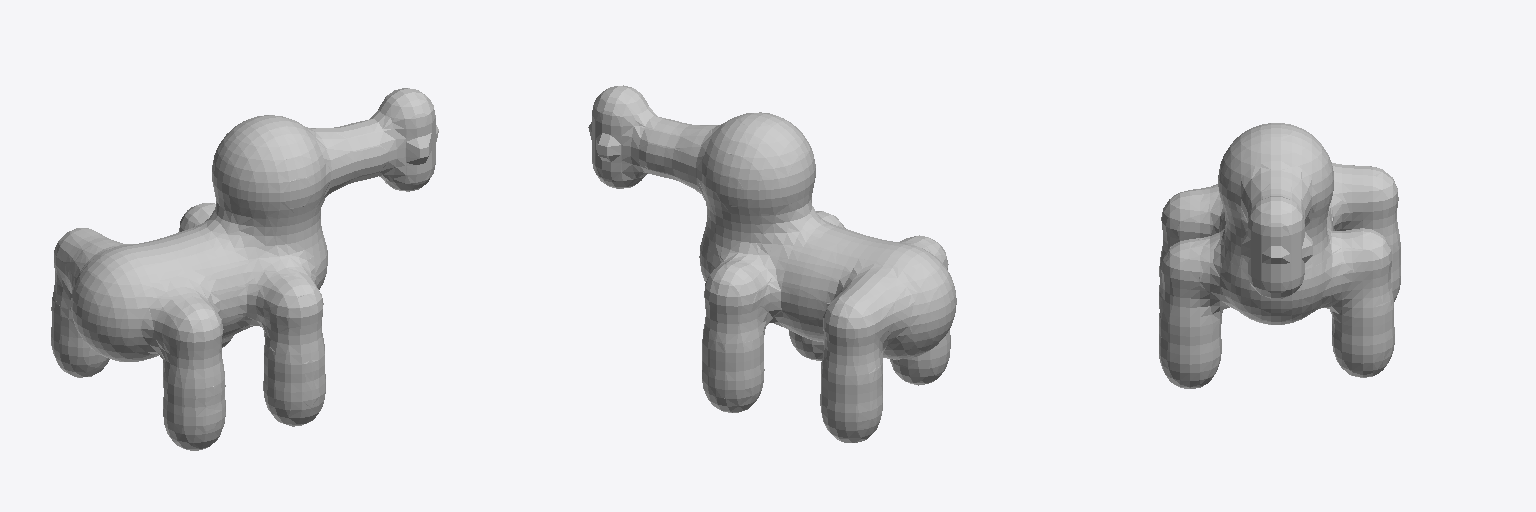
The model's file is After2.obj.
3 renders of one model, left to right at view 1: azimuth 30°, elevation 25°; view 2: azimuth 150°, elevation 25°; view 3: azimuth 270°, elevation 25°, orthographic.
Visible parts, largest first — view 1: Mball; view 2: Mball; view 3: Mball.
Boxes of the visible parts, x1=… form: Mball: x1=51, y1=88, x2=438, y2=450; Mball: x1=588, y1=85, x2=956, y2=442; Mball: x1=1159, y1=123, x2=1400, y2=388.
Size of the model in its own units: 81.46 by 58.19 by 47.88.